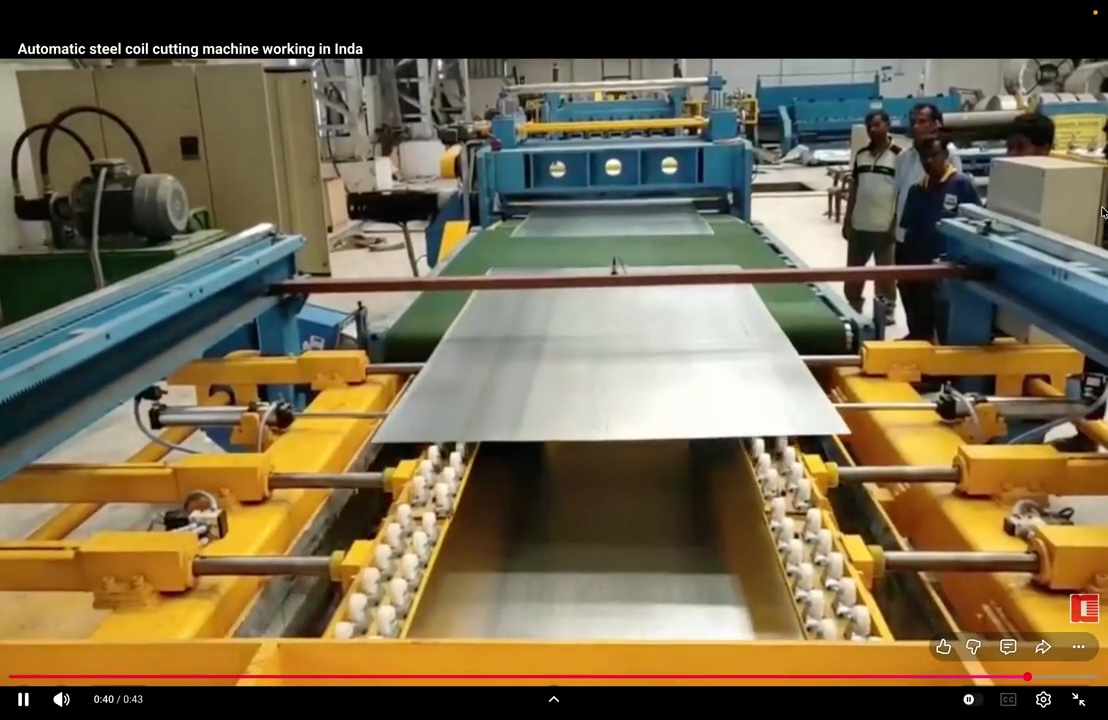steel plate: (375, 284, 847, 442), (513, 202, 713, 237)
